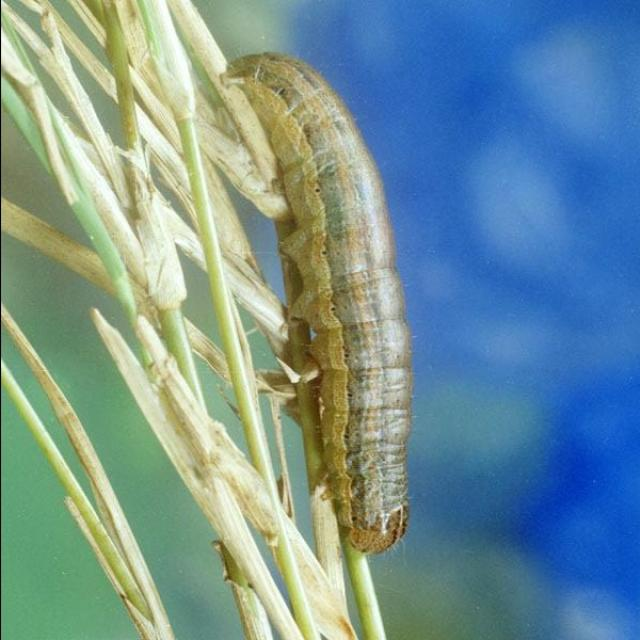army worm: (222, 53, 422, 559)
